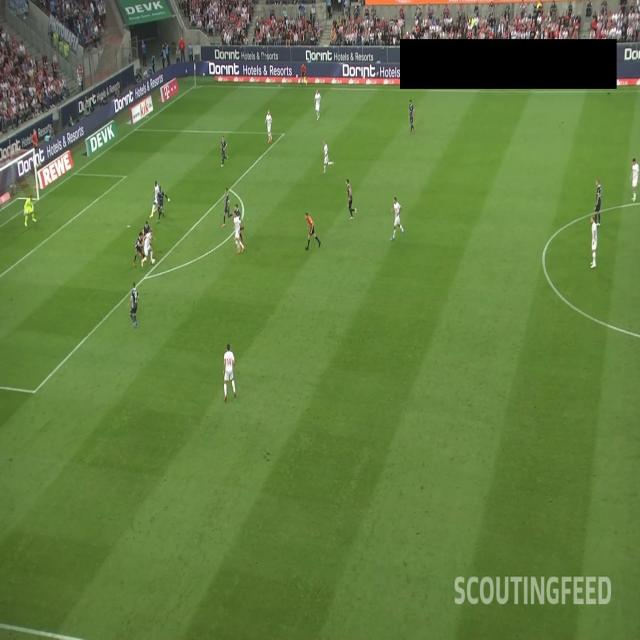ball: (151, 257, 156, 265)
